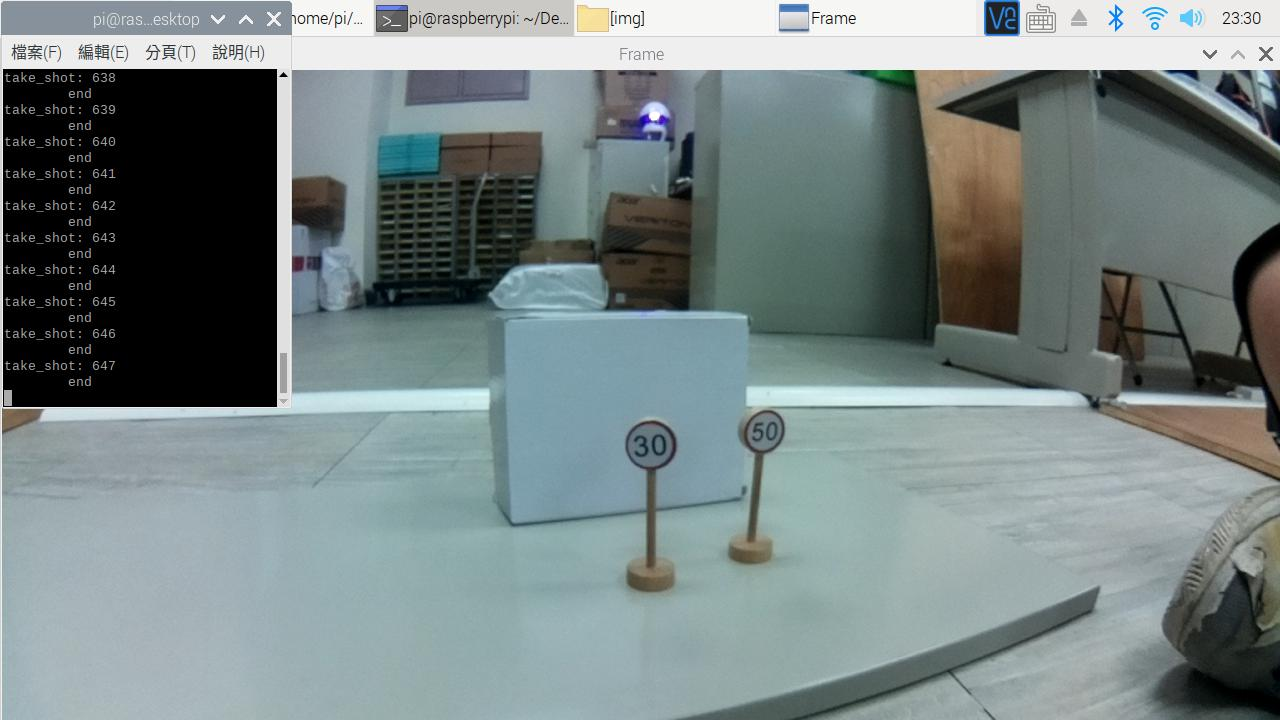Speed30: (620, 420, 685, 491)
Speed50: (738, 395, 801, 466)
